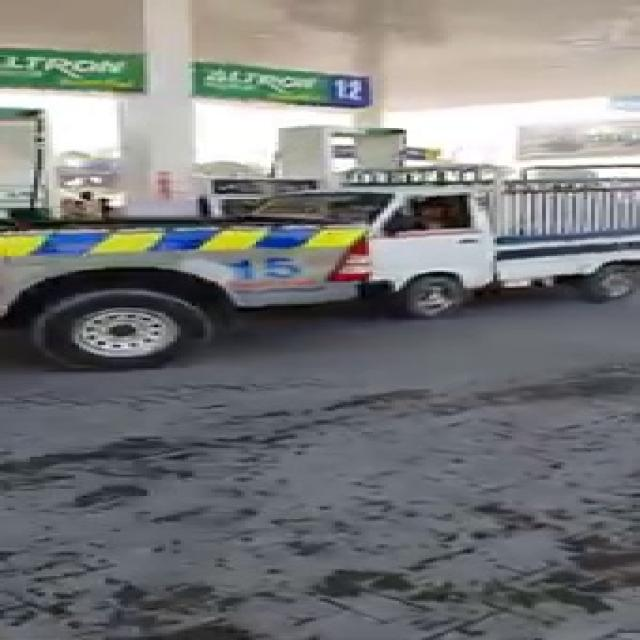police: (0, 220, 427, 360)
